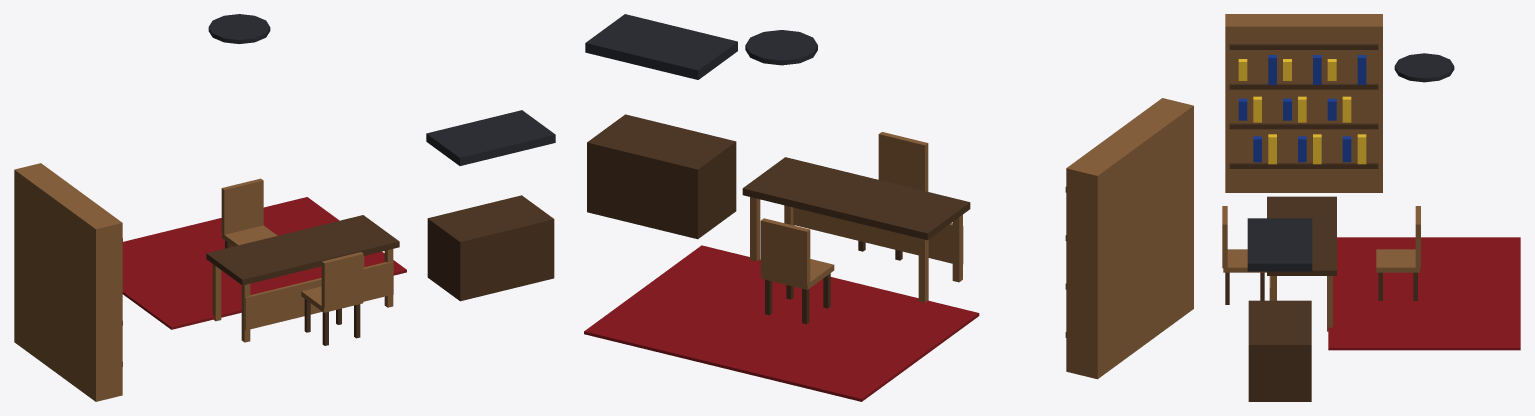
File: SM_Interior_slifer_banner_room_Props.fbx
The picture shows the model from 3 angles, left to right: view 1: azimuth 30°, elevation 25°; view 2: azimuth 150°, elevation 25°; view 3: azimuth 270°, elevation 25°; orthographic projection. The views are drawn at different scales.
Parts seen in each view (by area): view 1: SM_Interior_slifer_banner_room_Props; view 2: SM_Interior_slifer_banner_room_Props; view 3: SM_Interior_slifer_banner_room_Props.
Part boxes in pixels (box(x1,y1,x2,y2)): SM_Interior_slifer_banner_room_Props: box(14, 14, 555, 401); SM_Interior_slifer_banner_room_Props: box(584, 14, 1193, 401); SM_Interior_slifer_banner_room_Props: box(1222, 14, 1520, 401).
Bounding box in the file's own units: 6 × 2.91 × 3.41.
